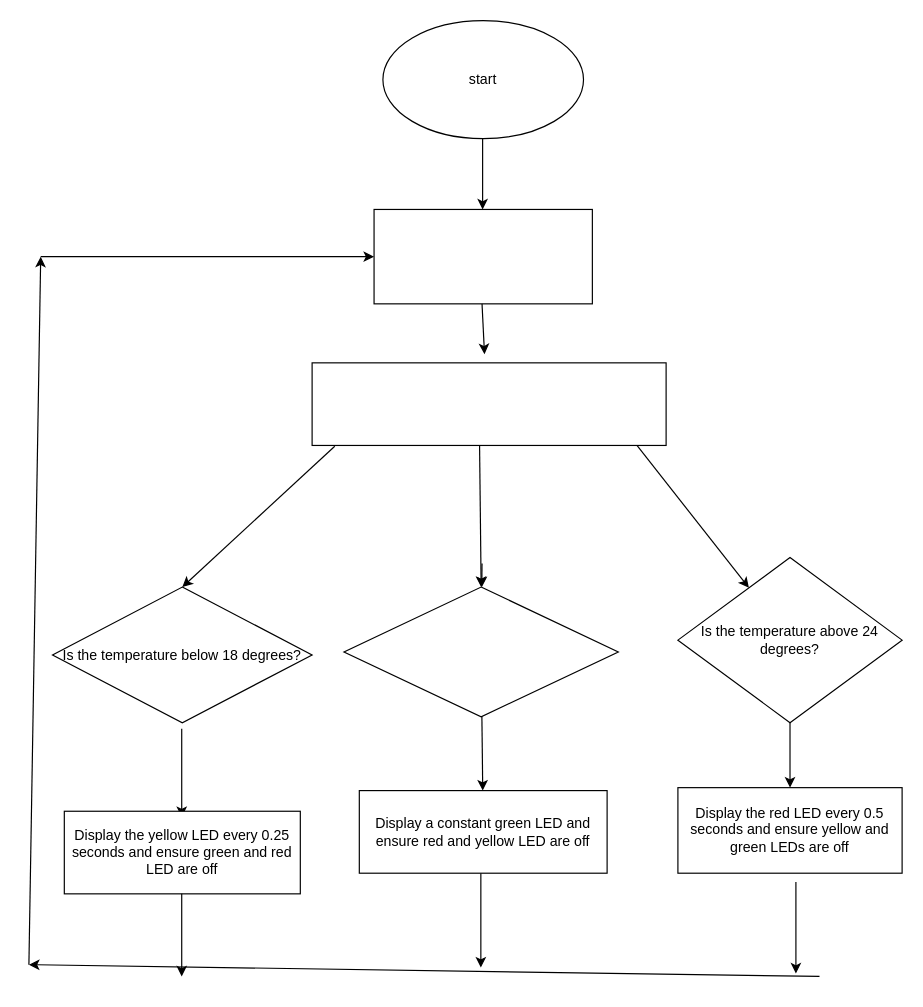
Some shapes in this 923 by 1007 pixel diagram are drawn without their labels. Each missing label, with the centre of its shape:
"Is the temperature between 18-24 degrees?" belongs at point (480, 651).
"Plot and update graph every 1 second" belongs at point (488, 403).
"Read voltage and calculate corresponding temperature" belongs at point (482, 256).
